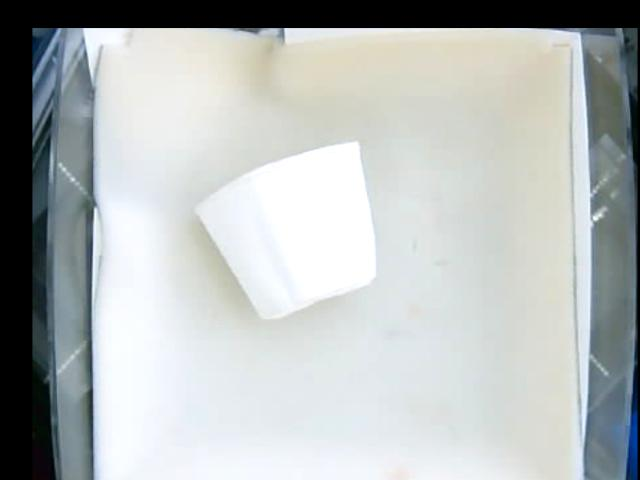Cup: (197, 142, 378, 323)
